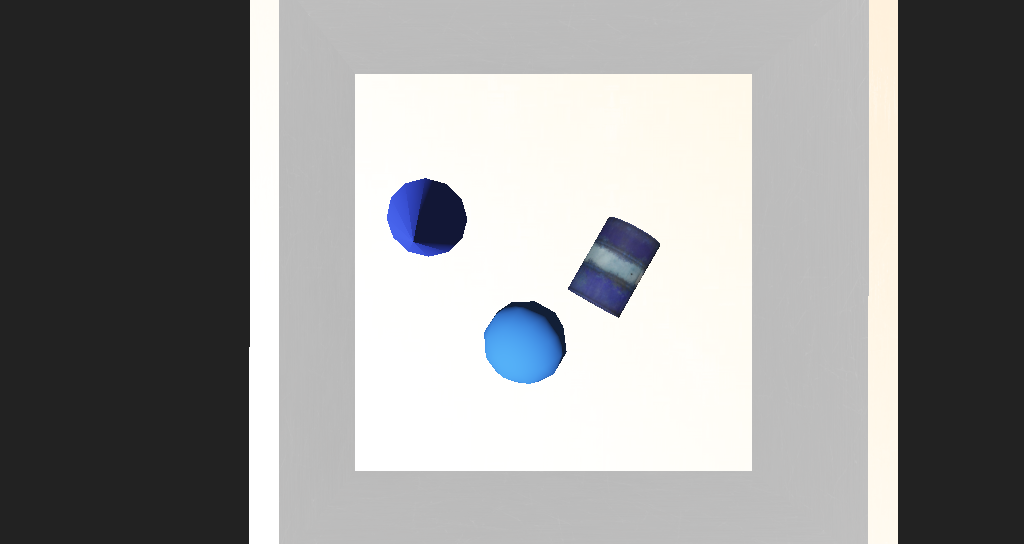cone: (515, 241, 589, 293)
cylinder: (367, 215, 441, 272)
sphere: (455, 284, 515, 327)
